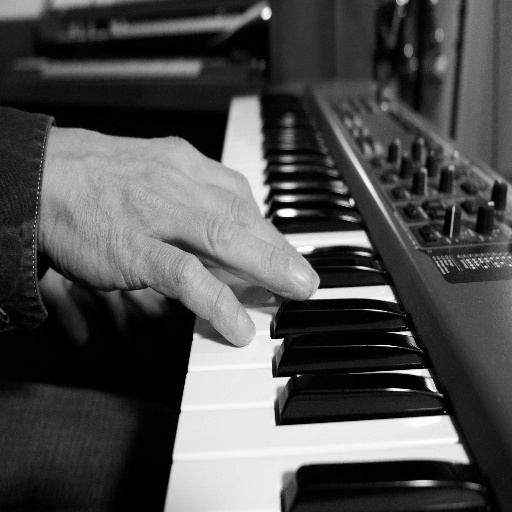hand: (40, 125, 323, 347), (41, 265, 168, 344)
